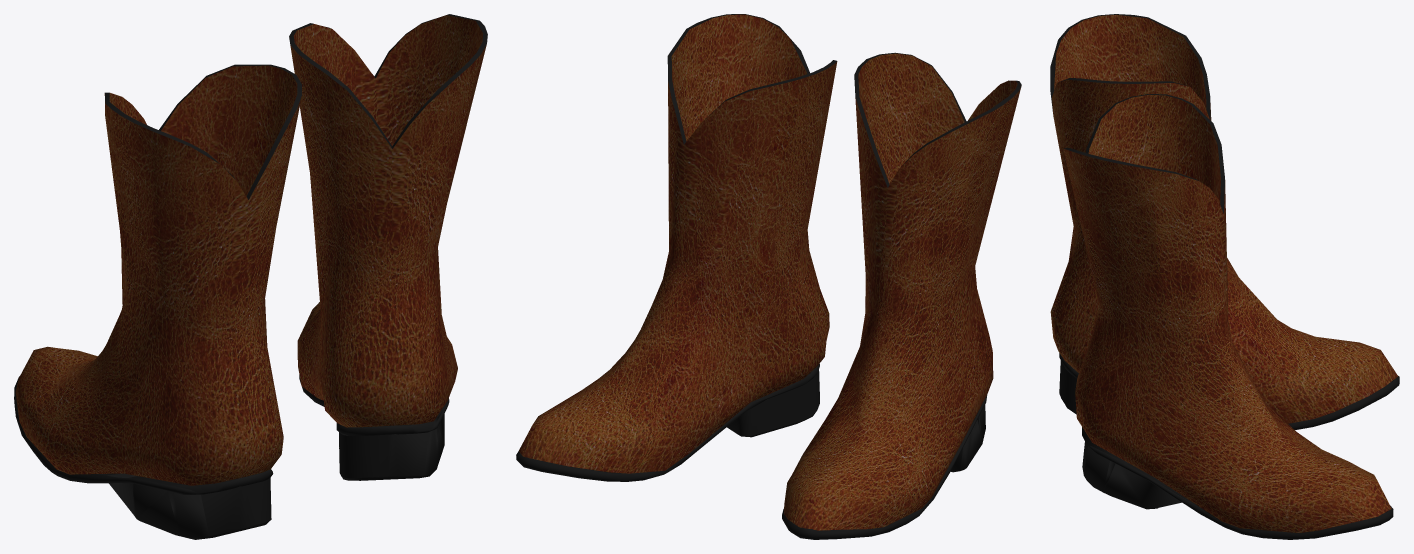
Rendered from Boots 6.FBX.
3 views of the same model, side by side, from view 1: azimuth 30°, elevation 25°; view 2: azimuth 150°, elevation 25°; view 3: azimuth 270°, elevation 25° (orthographic). The views are drawn at different scales.
Parts seen in each view (by area): view 1: Left boot, Right boot; view 2: Right boot, Left boot; view 3: Right boot, Left boot.
Part boxes in pixels (bbox=[...]): Left boot: bbox=[14, 64, 301, 539]; Right boot: bbox=[289, 14, 487, 480]; Right boot: bbox=[516, 14, 837, 481]; Left boot: bbox=[782, 52, 1021, 539]; Right boot: bbox=[1063, 94, 1393, 539]; Left boot: bbox=[1050, 14, 1399, 429].
Bounding box in the file's own units: 310 × 265 × 301.
1 material, 1 textured.
